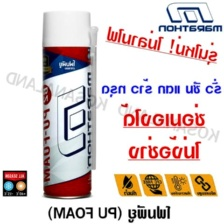aerosol_cans: (39, 6, 98, 204)
